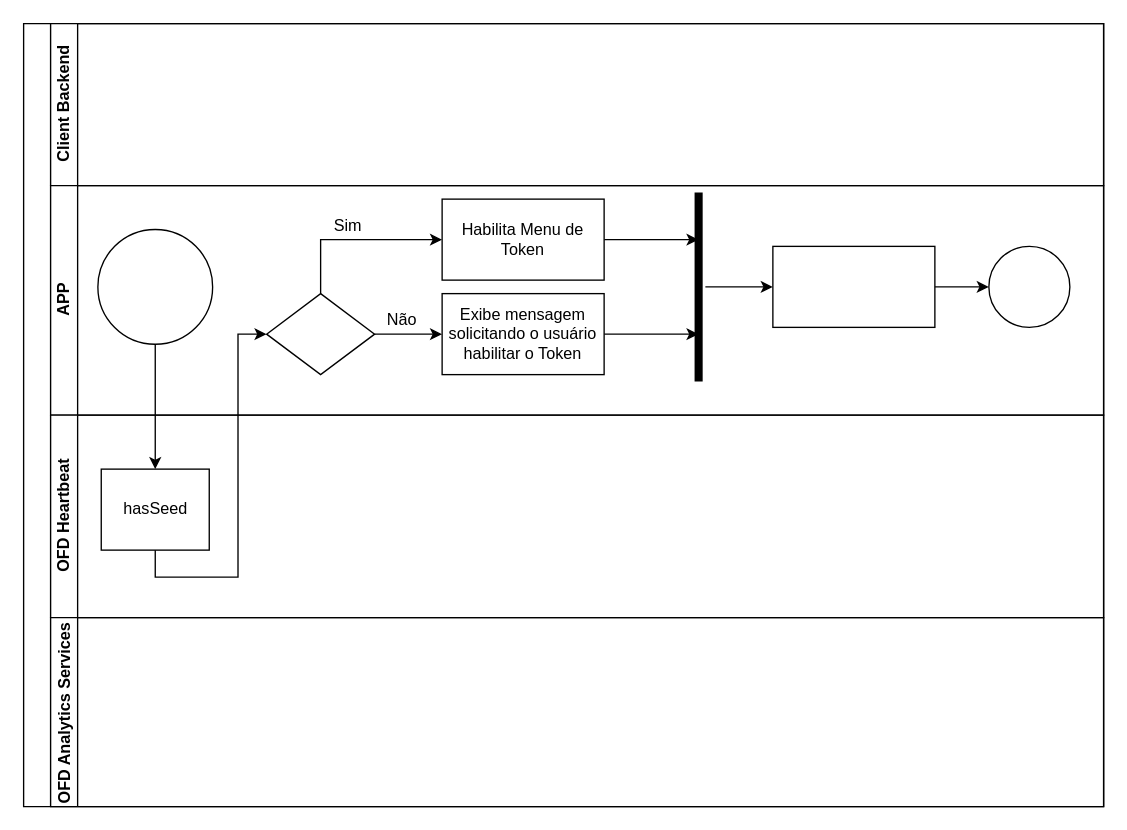
Image size: 1127x830. Some labels were removed from this diagram. The centre of each missing label's shape, as x and y in pixels:
"Entra na tela de Token" belongs at pixel 853 286.
"Fim" belongs at pixel 1029 286.
"Tela Inicial do APP (Área Logada)" belongs at pixel 155 286.
"tem seed local?" belongs at pixel 320 333.
